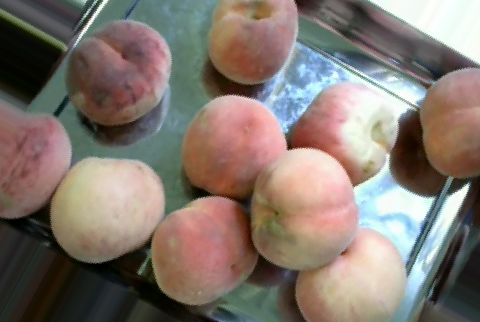Peach: (249, 149, 357, 270), (52, 155, 164, 263), (151, 195, 258, 305), (290, 81, 400, 184), (180, 96, 286, 201), (67, 22, 170, 127), (292, 226, 405, 321), (208, 0, 297, 81), (417, 67, 479, 182)
